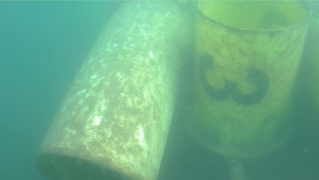3: (198, 54, 270, 106)
pipe: (33, 1, 194, 179), (180, 1, 311, 160), (304, 1, 318, 111)
